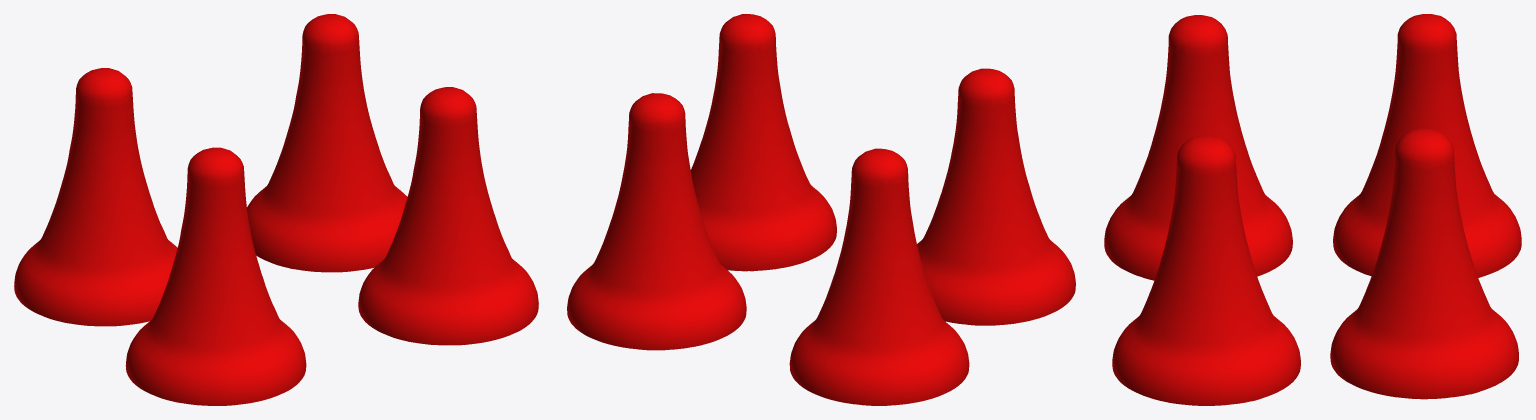
Rendered from Board_Pawn_R.fbx.
3 renders of one model, left to right at view 1: azimuth 30°, elevation 25°; view 2: azimuth 150°, elevation 25°; view 3: azimuth 270°, elevation 25°, orthographic. The views are drawn at different scales.
Parts seen in each view (by area): view 1: Board_Pawn_R; view 2: Board_Pawn_R; view 3: Board_Pawn_R.
Part boxes in pixels (x1,y1,x2,y2): Board_Pawn_R: [14, 14, 538, 405]; Board_Pawn_R: [567, 14, 1075, 405]; Board_Pawn_R: [1104, 14, 1521, 405].
Bounding box in the file's own units: 5.69 × 2.98 × 4.99.
